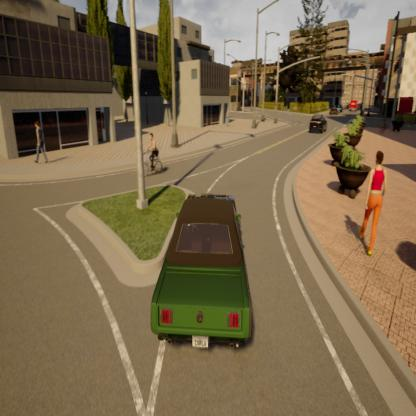Cars: (152, 180, 268, 365), (306, 110, 327, 137), (329, 100, 339, 122), (349, 95, 358, 115)
Pedestrian: (362, 144, 388, 271), (26, 114, 50, 172)
